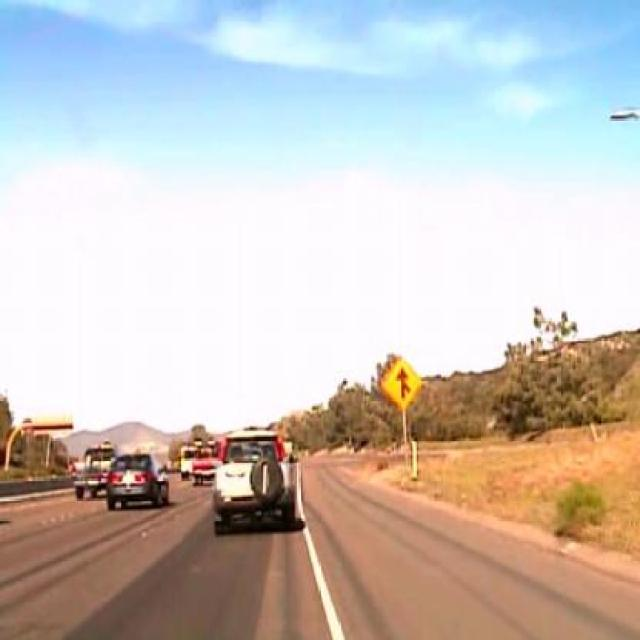merge: (380, 356, 422, 410)
